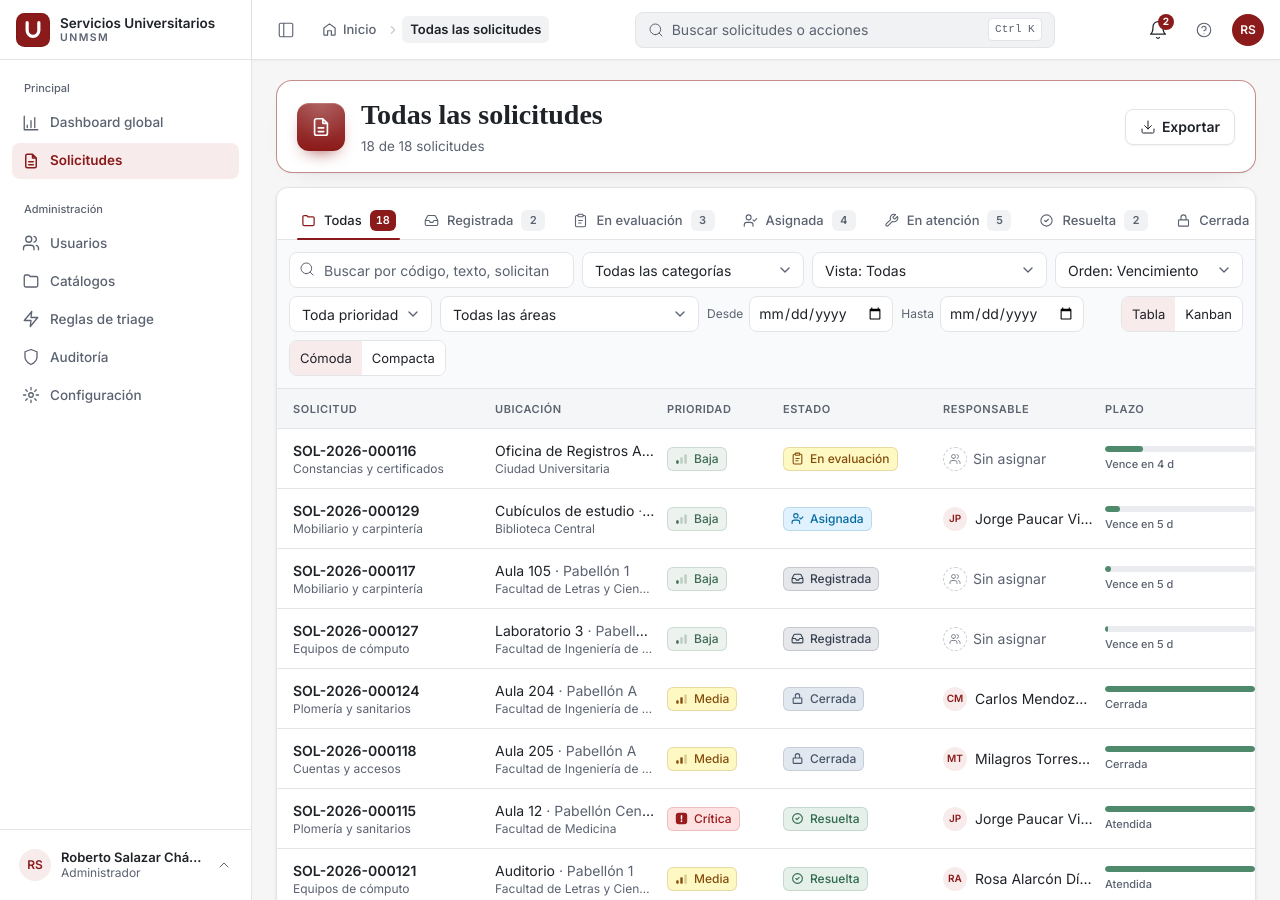
Bandeja con filtros y paginación del servidor › envía la categoría por id y vuelve a la primera página
Select "Electricidad" in the dropdown named "Categoría": (693, 270) [582, 252, 804, 288]
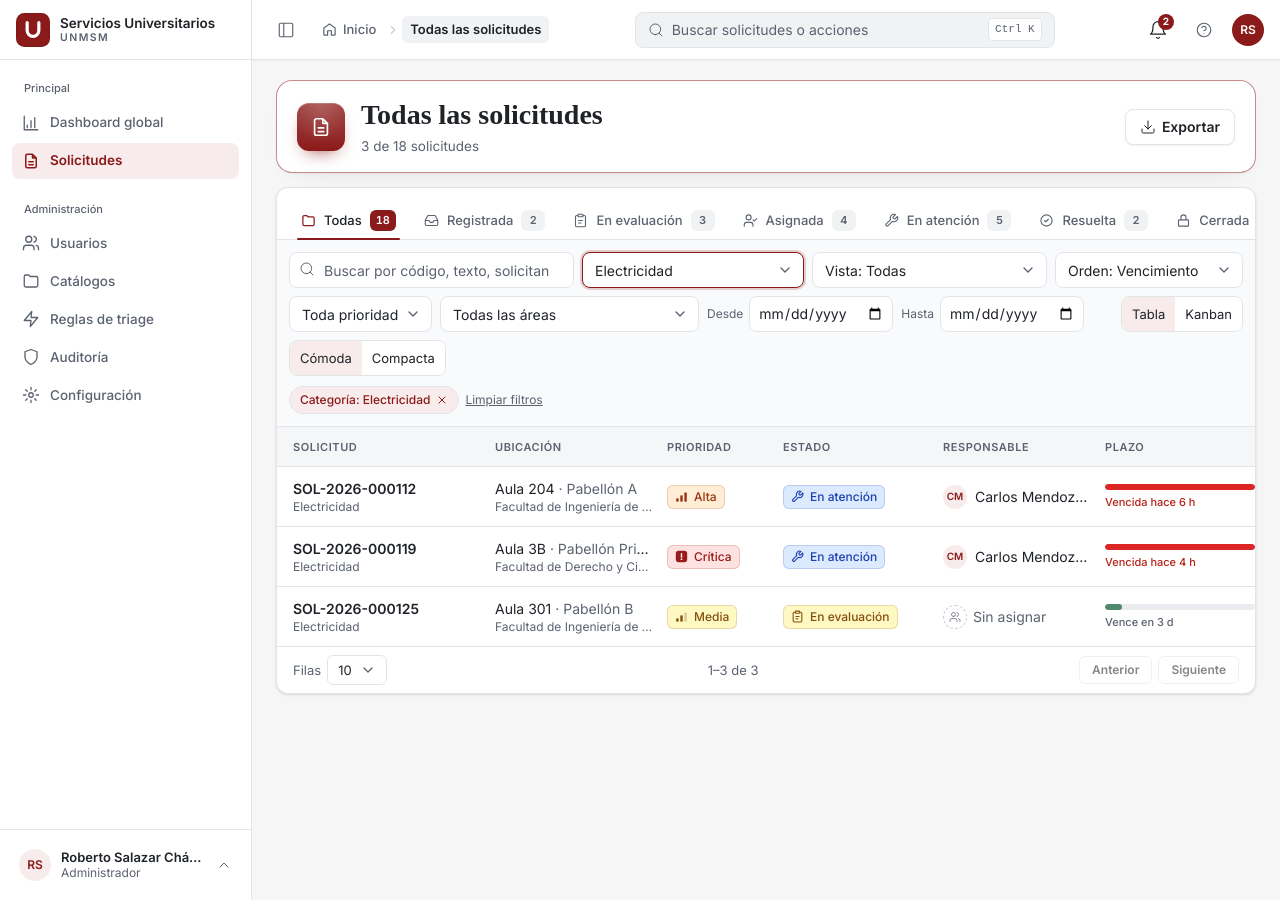
expect the button with aria-label "Quitar filtro Categoría: Electricidad" is shown: met, box [289, 386, 459, 414]
